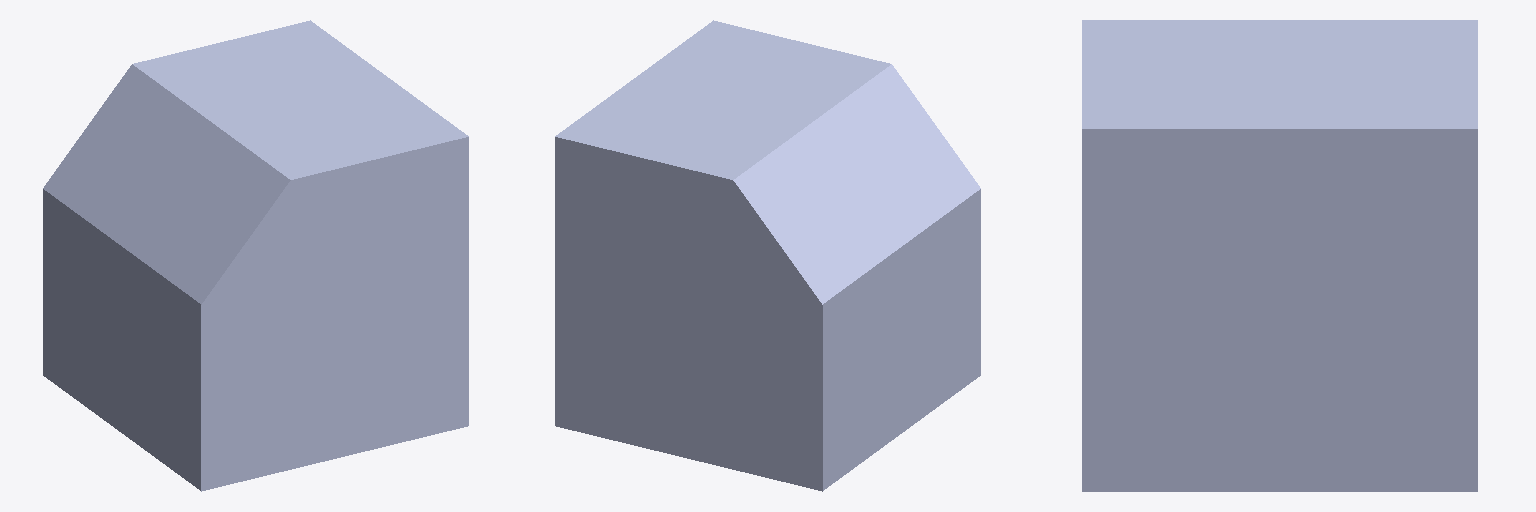
URDF robot description (Box):
<?xml version="1.0" encoding="utf-8"?>
<!-- This URDF was automatically created by SolidWorks to URDF Exporter! Originally created by [author] ([email redacted]) 
     Commit Version: 1.6.0-1-g15f4949  Build Version: 1.6.7594.29634
     For more information, please see http://wiki.ros.org/sw_urdf_exporter -->
<robot
  name="Box">
  <link
    name="base_link">
    <inertial>
      <origin
        xyz="0.0532748784202288 -0.180667823948632 -0.00723008586591057"
        rpy="0 0 0" />
      <mass
        value="3.36875" />
      <inertia
        ixx="0.0130027802361111"
        ixy="-3.54220851761773E-19"
        ixz="-0.00076059423611111"
        iyy="0.0122632059305556"
        iyz="-3.12517569710866E-20"
        izz="0.0125759715277778" />
    </inertial>
    <visual>
      <origin
        xyz="0 0 0"
        rpy="0 0 0" />
      <geometry>
        <mesh
          filename="package://Box/meshes/base_link.STL" />
      </geometry>
      <material
        name="">
        <color
          rgba="0.792156862745098 0.819607843137255 0.933333333333333 1" />
      </material>
    </visual>
    <collision>
      <origin
        xyz="0 0 0"
        rpy="0 0 0" />
      <geometry>
        <mesh
          filename="package://Box/meshes/base_link.STL" />
      </geometry>
    </collision>
  </link>
</robot>

--- Render facts (derived) ---
3 views of the same robot in one strip: view 1: azimuth 30°, elevation 25°; view 2: azimuth 150°, elevation 25°; view 3: azimuth 270°, elevation 25° (orthographic).
Model Box with 1 links and 0 joints (none), rooted at base_link, posed all joints at 0.
Visible links, largest first — view 1: base_link; view 2: base_link; view 3: base_link.
Link boxes in pixels (x1,y1,x2,y2): base_link: (43,20,468,491); base_link: (555,20,980,491); base_link: (1082,20,1477,491).
Size in the robot's own frame: 0.15 by 0.154 by 0.155 metres.
1 mesh visuals loaded from 1 distinct referenced files (1 binary STL).